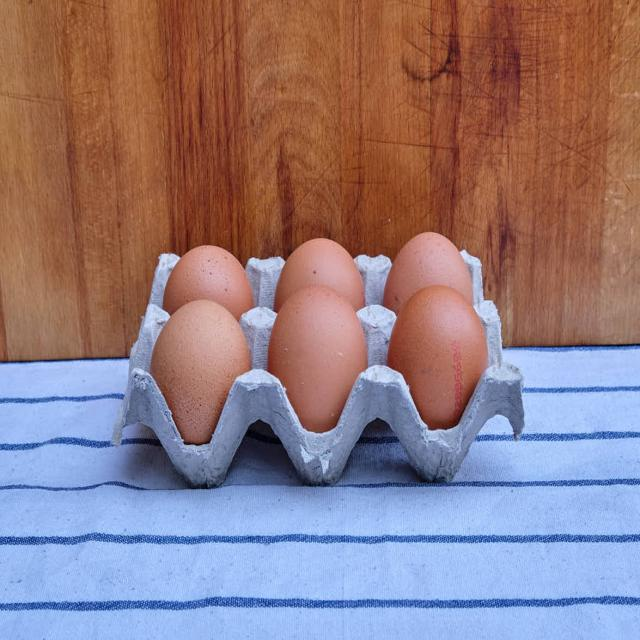Egg: (158, 245, 478, 432), (265, 278, 372, 440), (145, 298, 255, 436), (384, 281, 493, 420), (274, 231, 370, 325)
